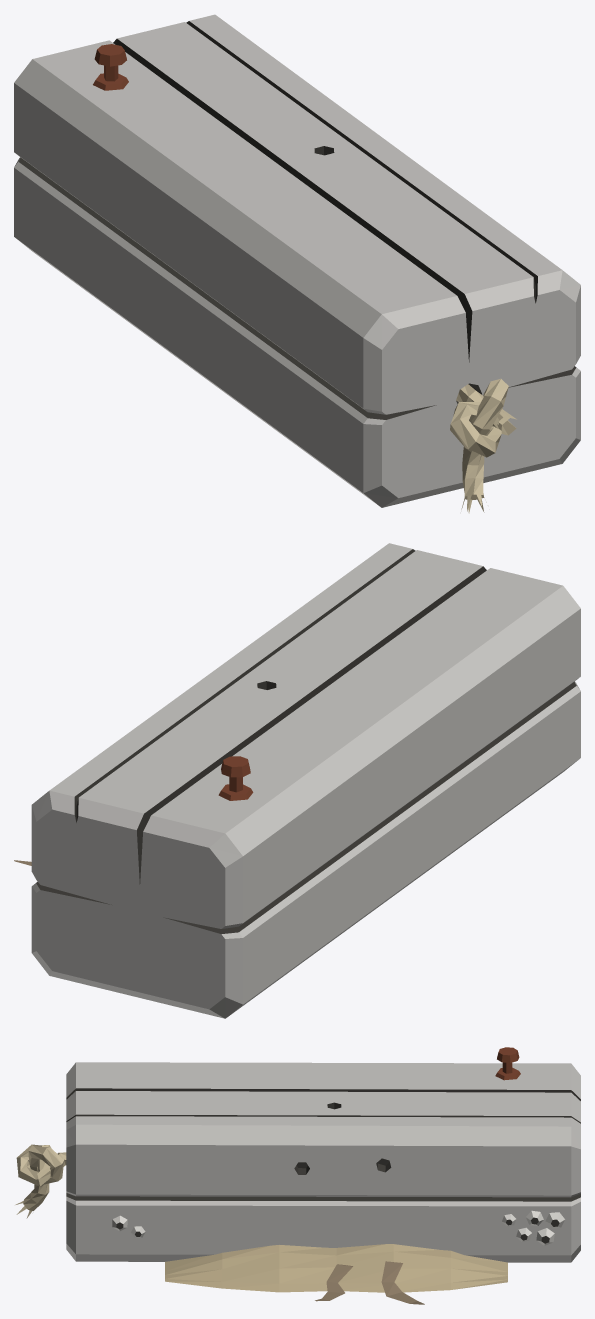
File: driftwood-log-89a68f.glb
3 views of the same model, one above another, from view 1: azimuth 30°, elevation 25°; view 2: azimuth 150°, elevation 25°; view 3: azimuth 270°, elevation 25° (orthographic). The views are drawn at different scales.
Parts seen in each view (by area): view 1: driftwood, rope-tail-mesh; view 2: driftwood; view 3: driftwood, rope-tail-mesh.
Boxes of the visible parts, box(x1,y1,x2,y2) form: driftwood: box(14, 14, 580, 507); rope-tail-mesh: box(461, 447, 486, 513); driftwood: box(14, 543, 580, 1018); driftwood: box(16, 1047, 580, 1304); rope-tail-mesh: box(15, 1183, 49, 1218).
Bounding box in the file's own units: 1.31 × 0.823 × 2.64.
